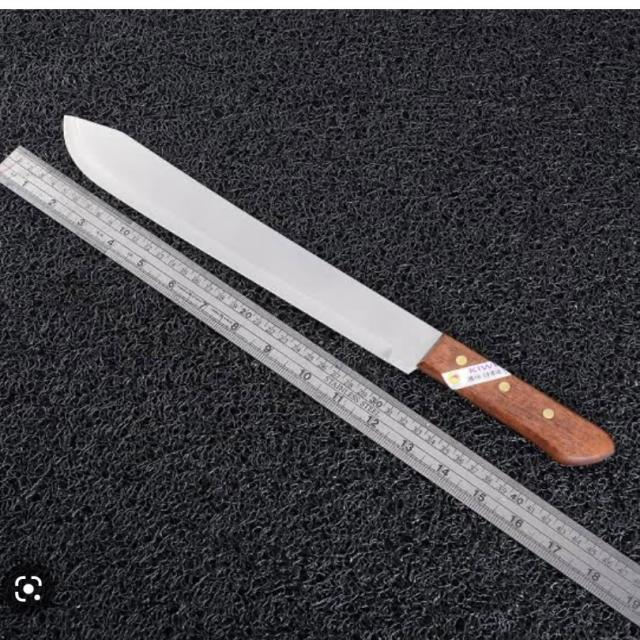Knife: (48, 100, 622, 492)
